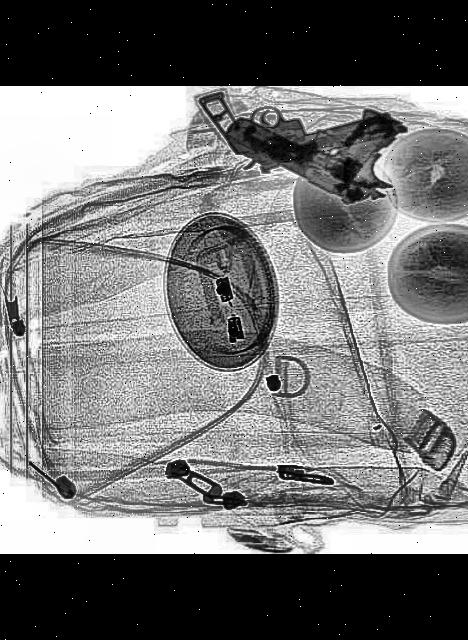Gun: (222, 86, 418, 216), (216, 86, 410, 184)
